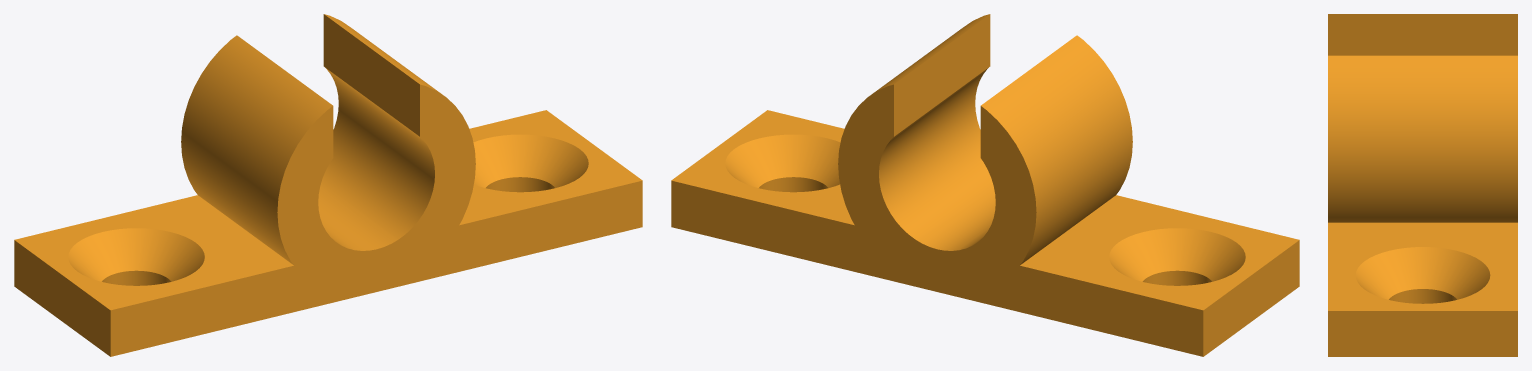
The model's file is clip_cable_6mm.fbx.
3 views of the same model, side by side, from view 1: azimuth 30°, elevation 25°; view 2: azimuth 150°, elevation 25°; view 3: azimuth 270°, elevation 25° (orthographic).
Visible parts, largest first — view 1: clip_cable_6mm; view 2: clip_cable_6mm; view 3: clip_cable_6mm.
Boxes of the visible parts, box(x1,y1,x2,y2) form: clip_cable_6mm: box(14, 14, 642, 356); clip_cable_6mm: box(671, 14, 1299, 356); clip_cable_6mm: box(1328, 14, 1517, 356).
Bounding box in the file's own units: 0.0287 × 0.0101 × 0.009.
